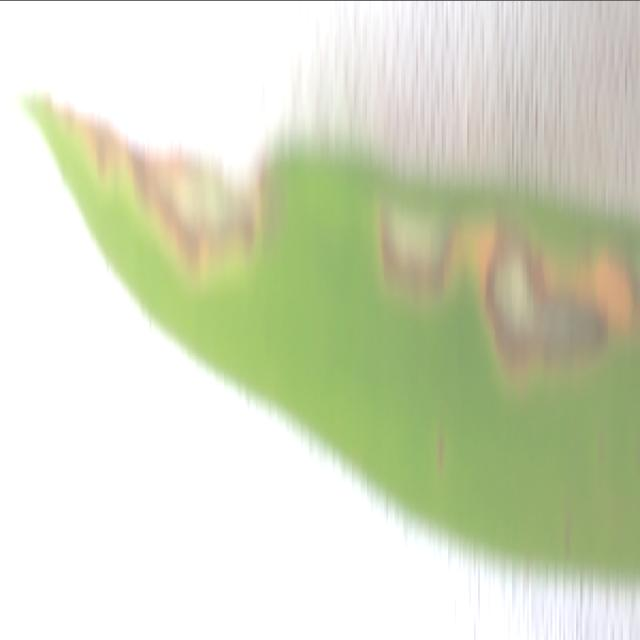Brown_Spot: (364, 210, 620, 386)
